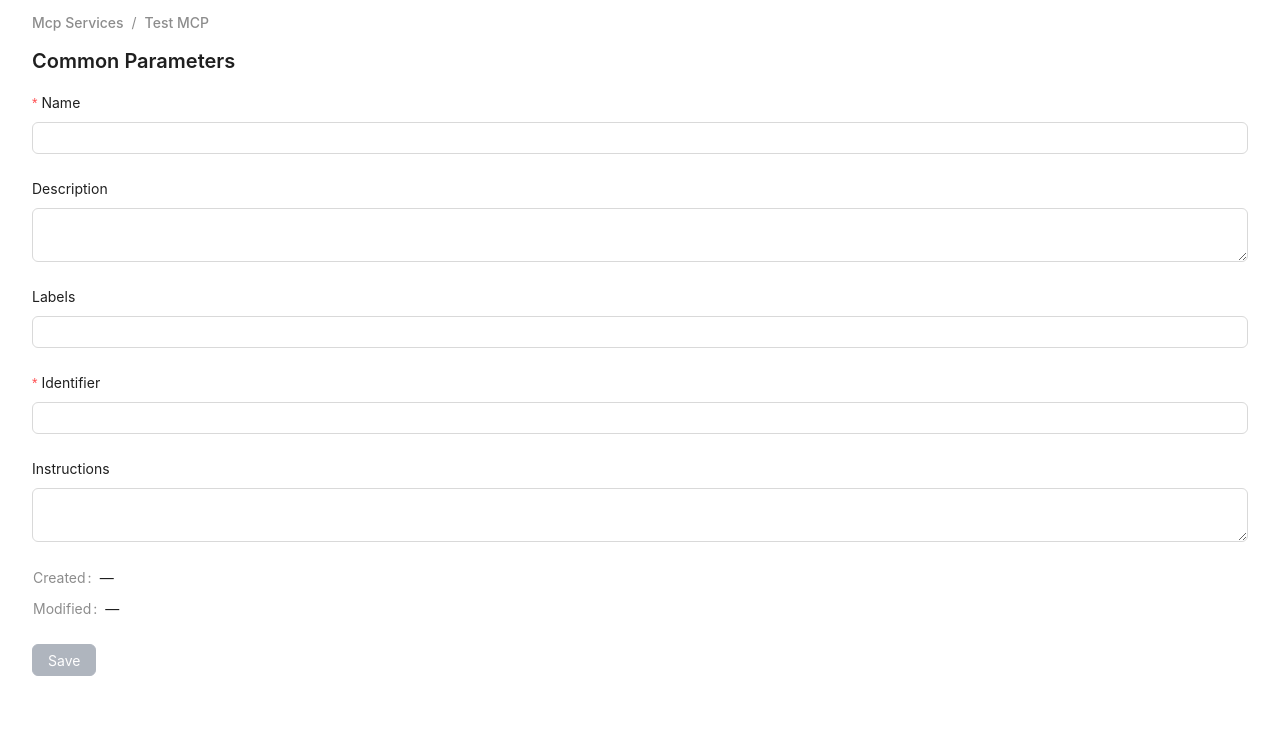
Test: McpServiceParametersPage › should clear the error alert after a successful save following a previous failure
Type "v1" into the field labelled "Name".
click(640, 138); type("v1")  # box [32,122,1248,154]
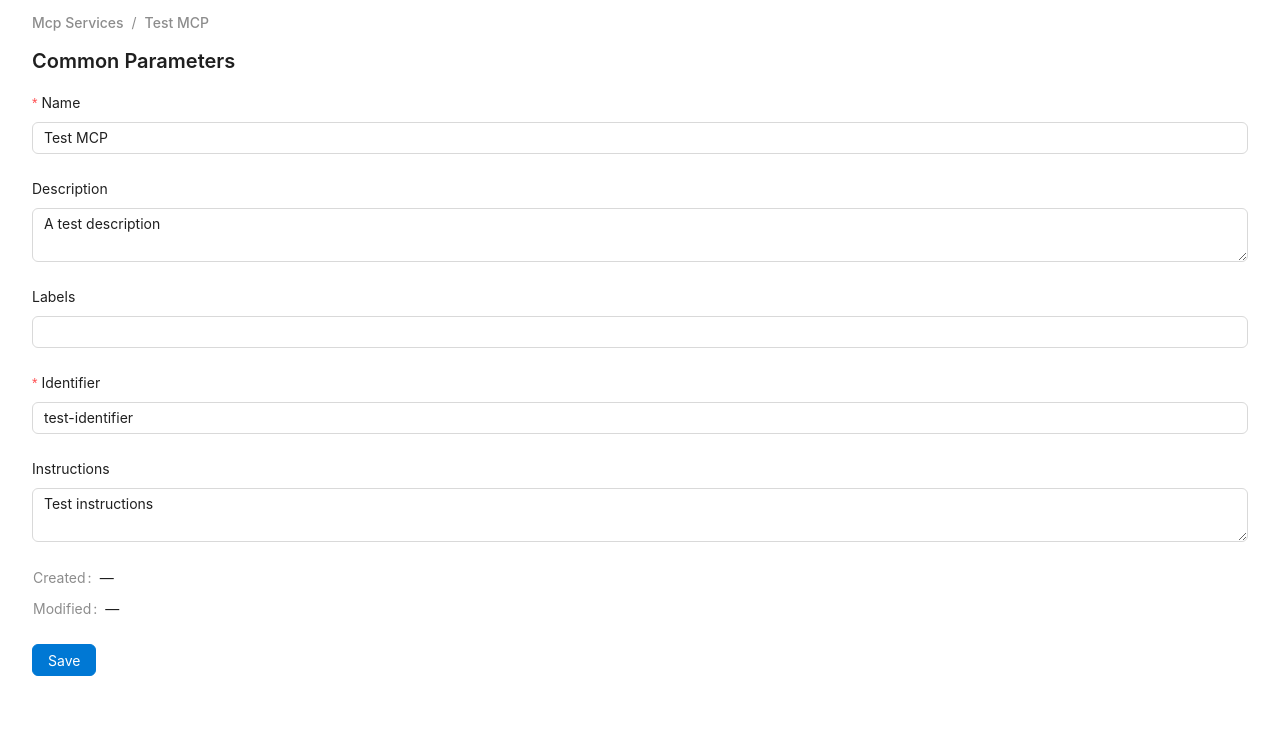
# First save → fails → error alert appears
Click the button "Save".
click(64, 660)  # box [32,644,96,676]
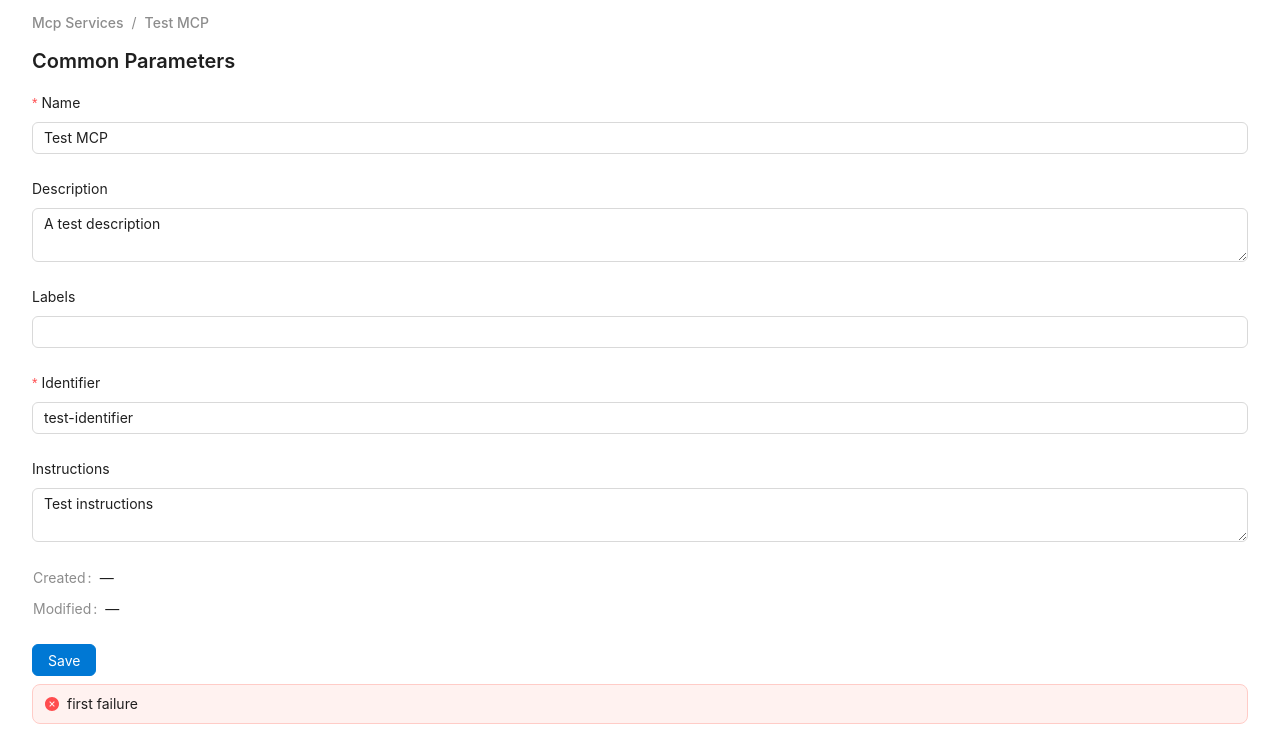
Expected: the message "first failure" is shown, [32,684,1248,724]
# Second save → succeeds → error alert is cleared
Click the button "Save".
click(64, 660)  # box [32,644,96,676]
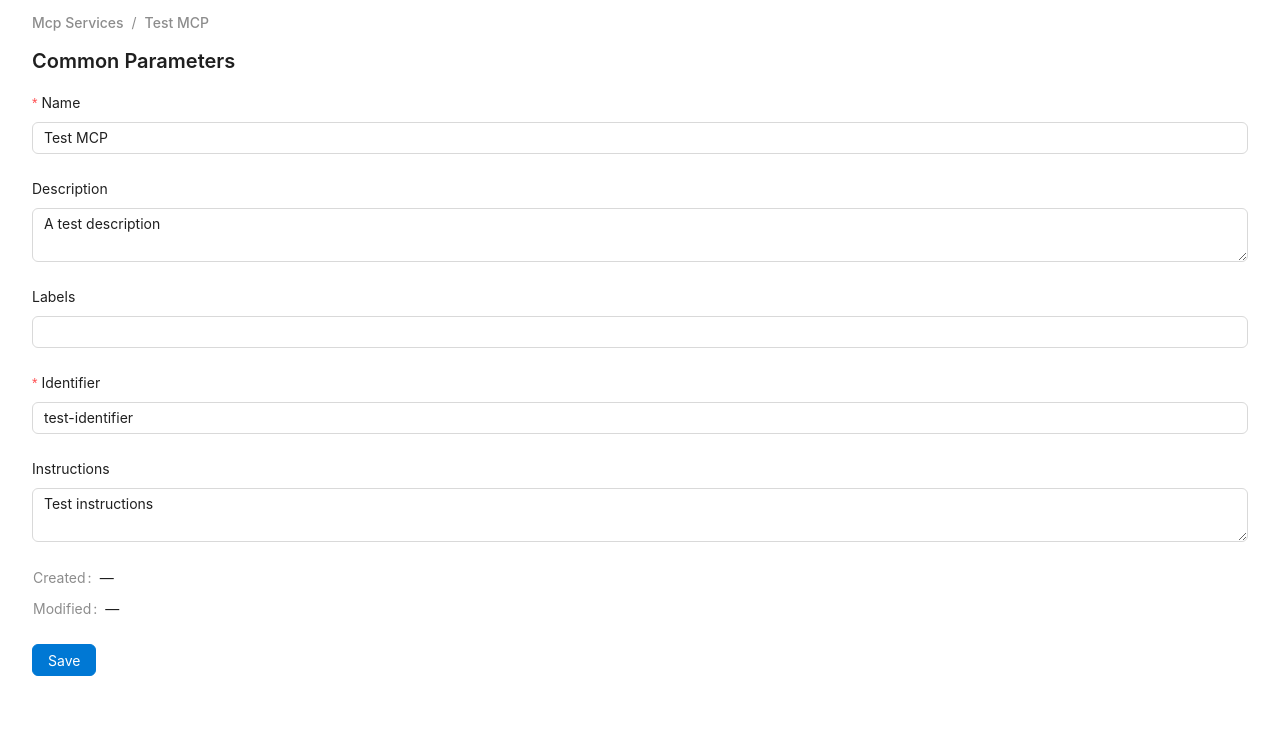
Expected: the message "first failure" is gone
